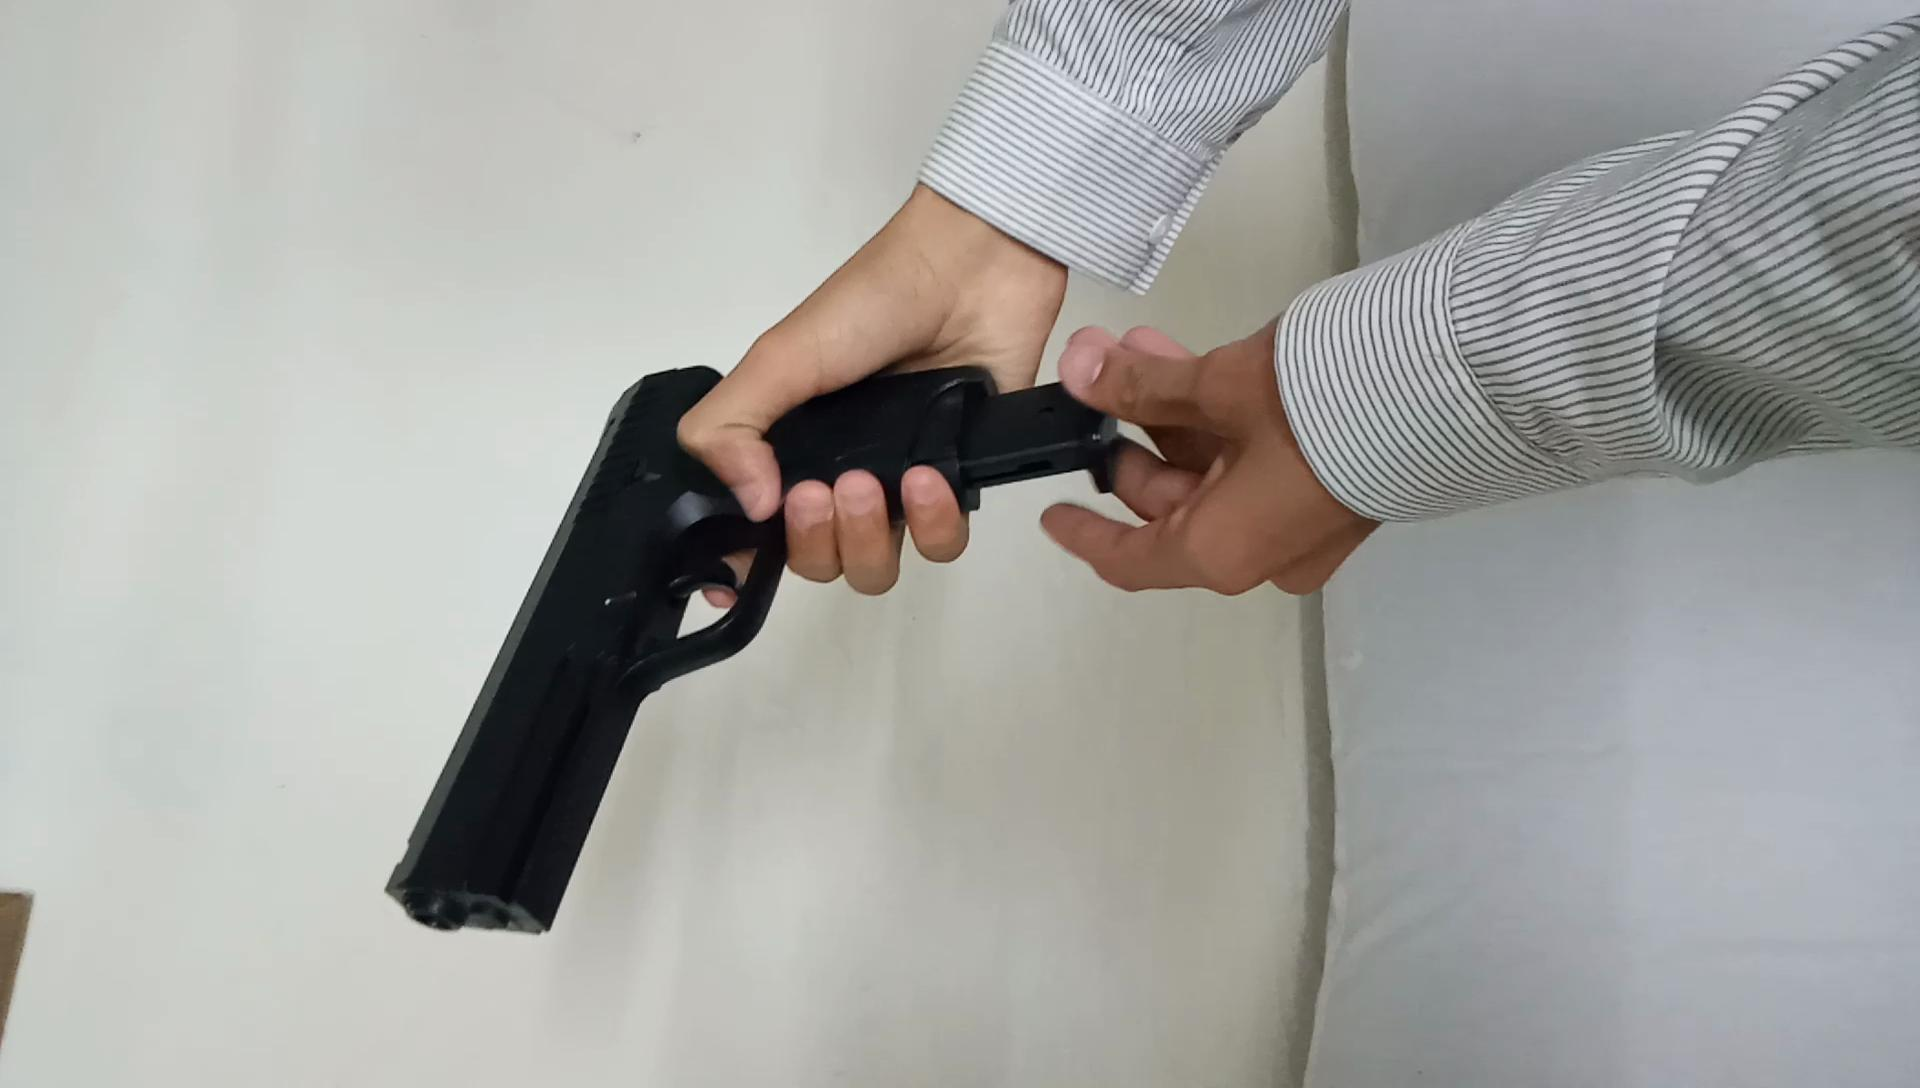weapon: (377, 342, 1135, 951)
